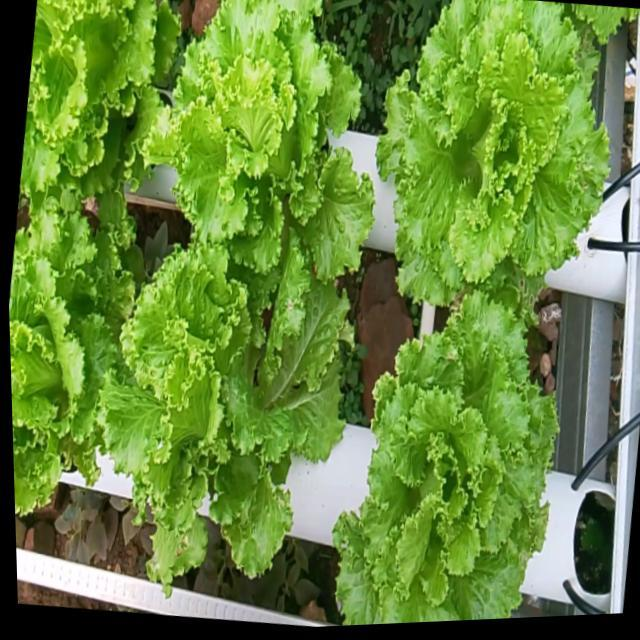Mature: (93, 247, 343, 590), (366, 0, 622, 306), (326, 290, 549, 626), (145, 0, 364, 302), (9, 221, 124, 523), (17, 0, 168, 221)
